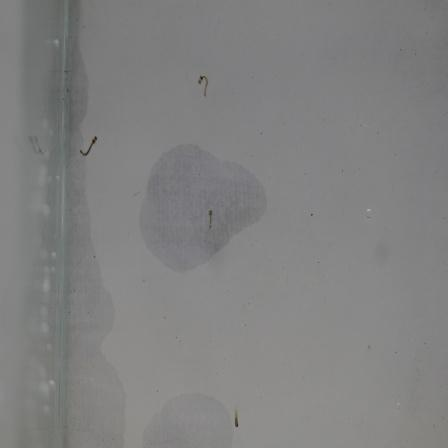Jentik-Nyamuk: (76, 130, 101, 161), (194, 70, 210, 101), (229, 404, 243, 432), (204, 205, 217, 235)
